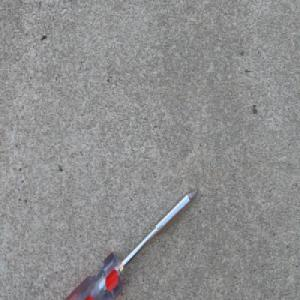Screwdriver: (58, 185, 200, 300)
